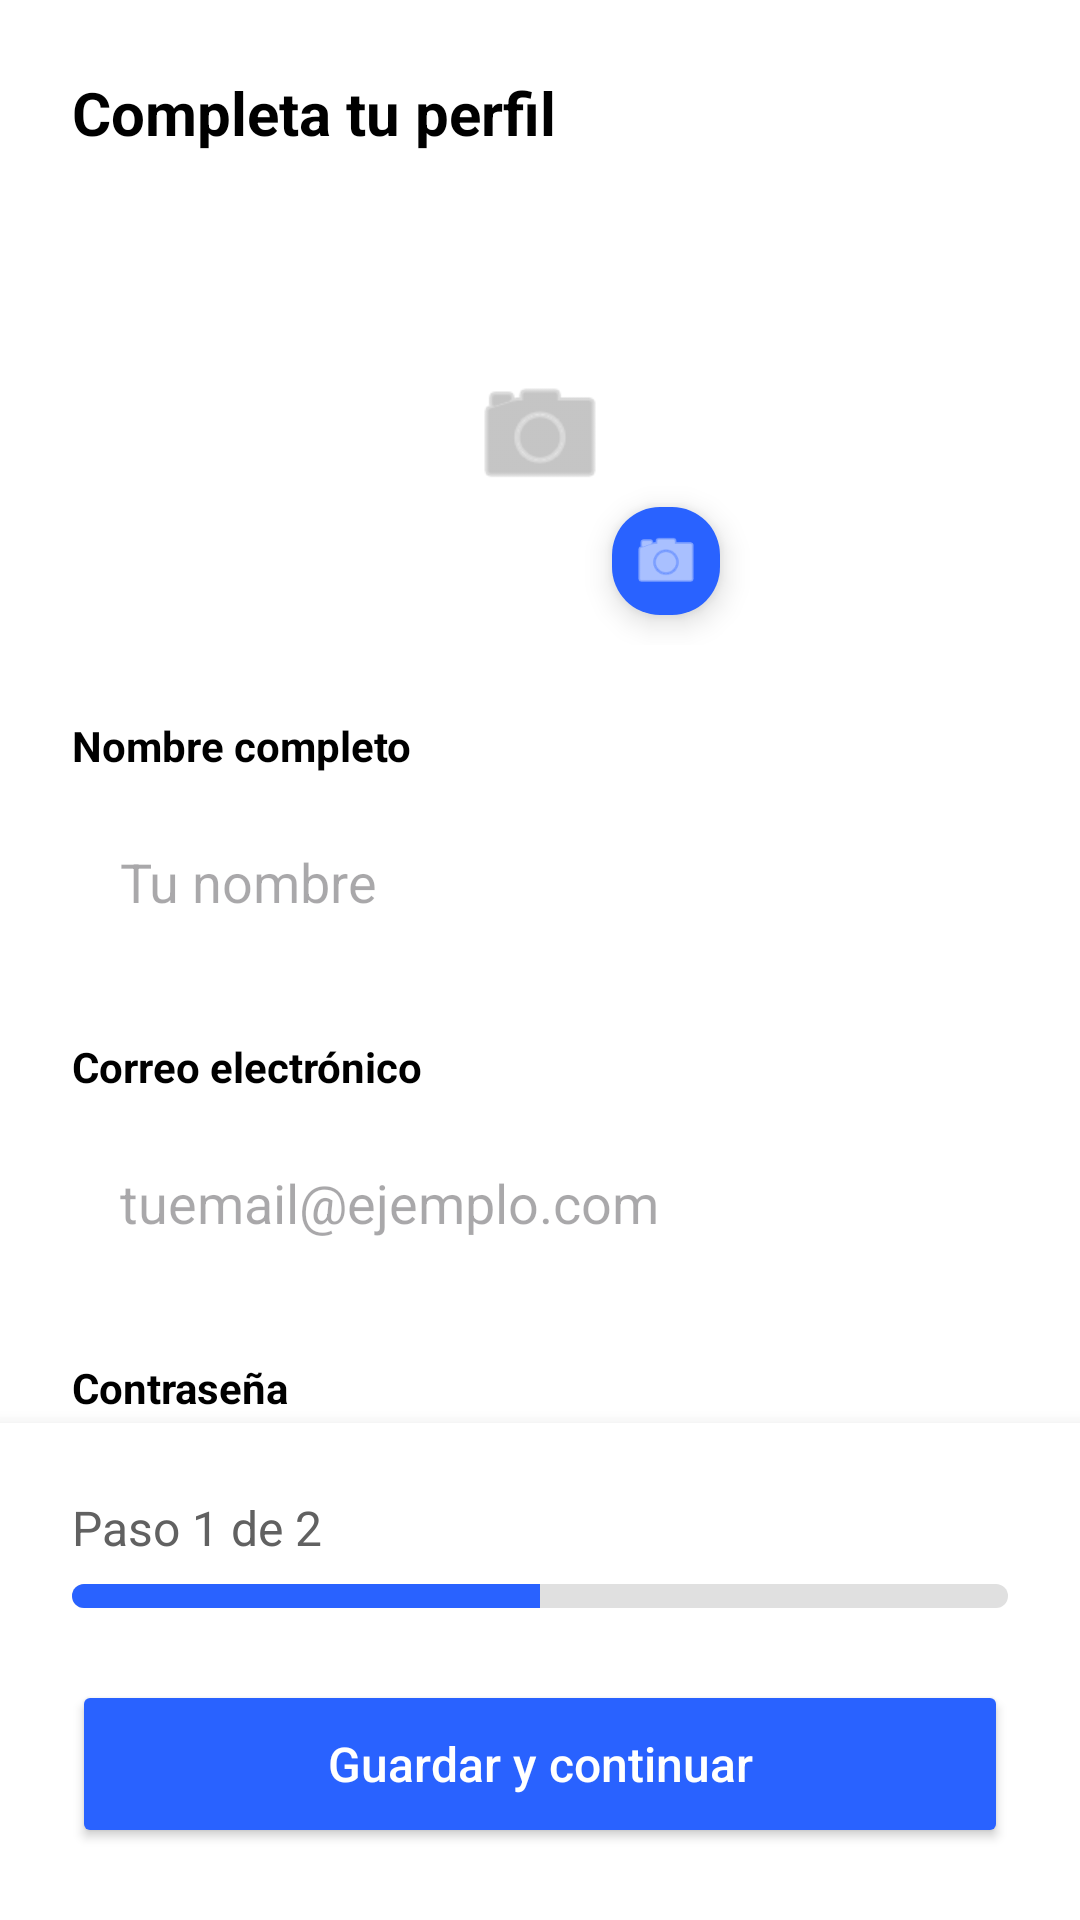

Point at icon controls on the screen. Image size 1080px x 1920px, points as [x,y].
camera: [540,432], [666,563]
